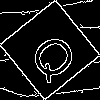Q: (25, 25, 87, 86)
